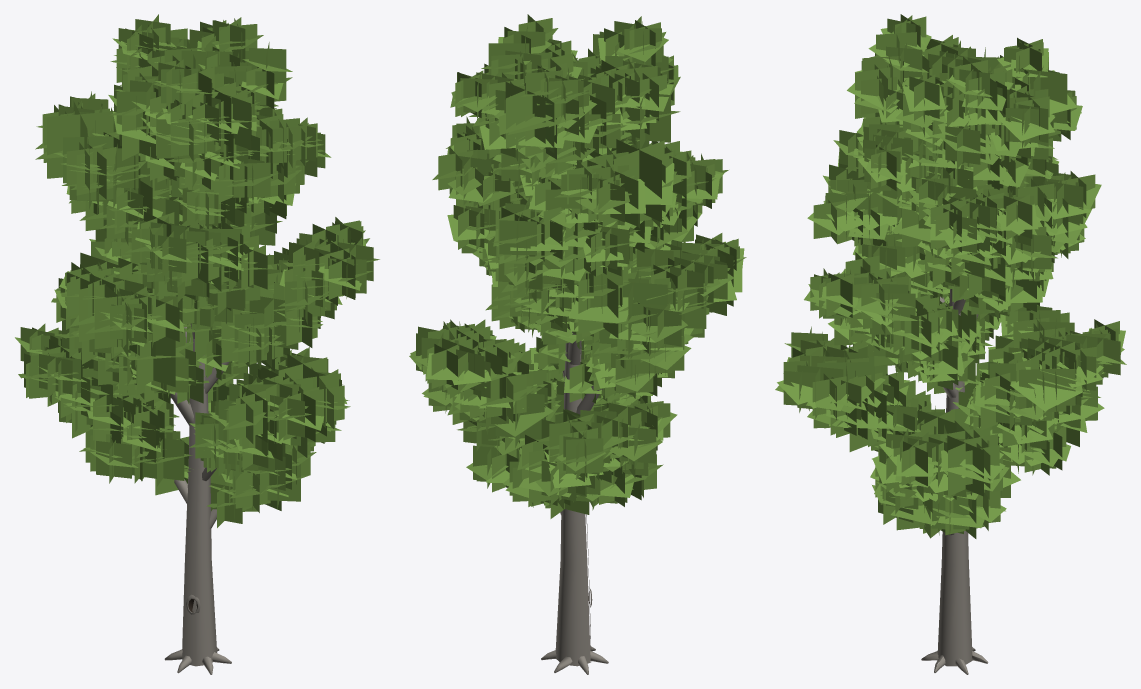
The model's file is tilleul_4_f3_jeu.glb.
3 renders of one model, left to right at view 1: azimuth 30°, elevation 25°; view 2: azimuth 150°, elevation 25°; view 3: azimuth 270°, elevation 25°, orthographic.
Visible parts, largest first — view 1: Tilleul_T4_f3_Leger; view 2: Tilleul_T4_f3_Leger; view 3: Tilleul_T4_f3_Leger.
Boxes of the visible parts, bbox=[...] form: Tilleul_T4_f3_Leger: bbox=[15, 14, 379, 674]; Tilleul_T4_f3_Leger: bbox=[409, 14, 746, 674]; Tilleul_T4_f3_Leger: bbox=[775, 14, 1126, 674].
Bounding box in the file's own units: 8.35 × 17.24 × 8.88.
